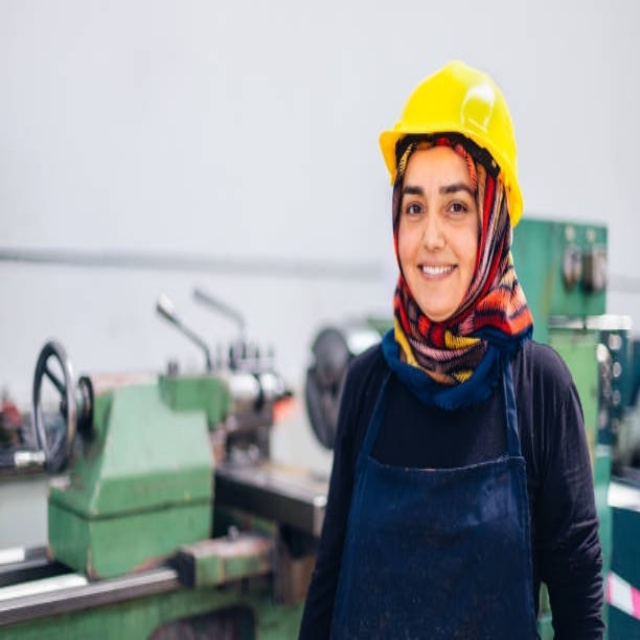Sin_gafas: (399, 171, 476, 227)
Sin_mascara: (414, 251, 459, 301)
